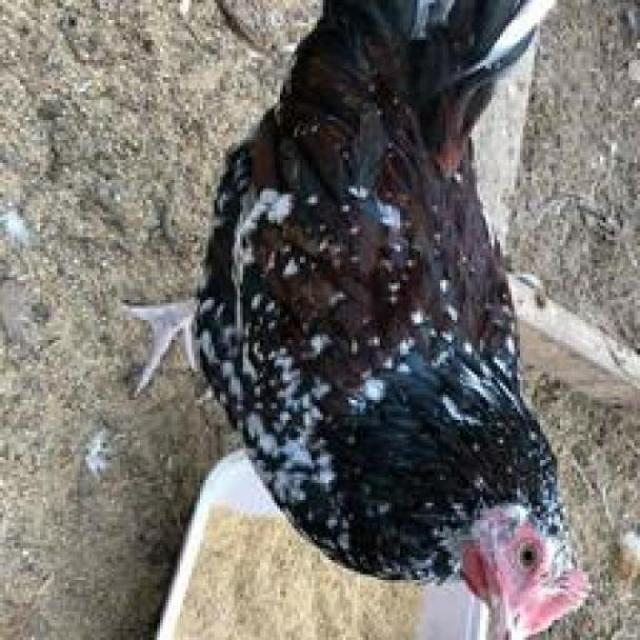Chicken: (124, 0, 640, 639)
